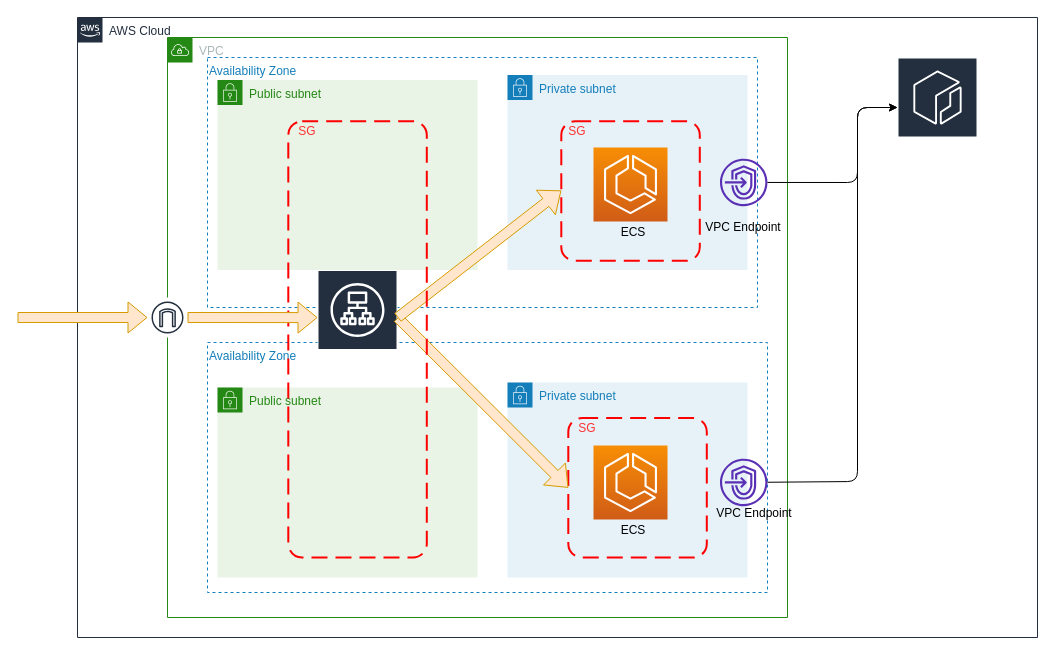
The diagram is 1055 pixels wide and 655 high, and some of its shapes have lost their labels. The centre of each missing label's shape, as x and y in pixels:
Amazon ECR: (x=937, y=107)
Application Load Balancer: (x=357, y=324)
Internet gateway: (x=167, y=317)
